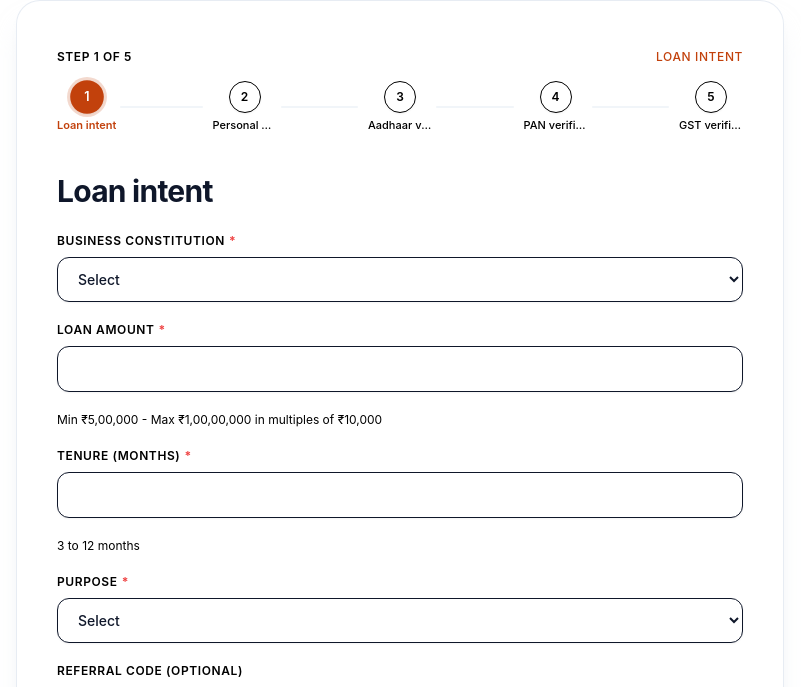
WizardShell Phase 3 browser integration › creates the current application from loan intent before advancing
Select "Proprietorship" in the dropdown labelled "Business constitution": coordinates (400, 279) [57,257,743,302]
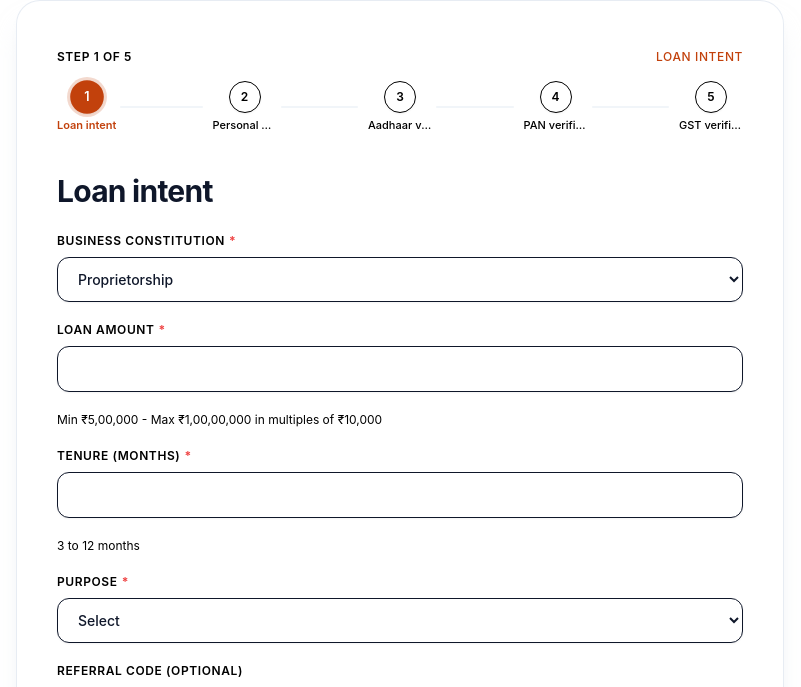
In the field labelled "Loan amount": coordinates (400, 369) [57,346,743,392], type "500000"
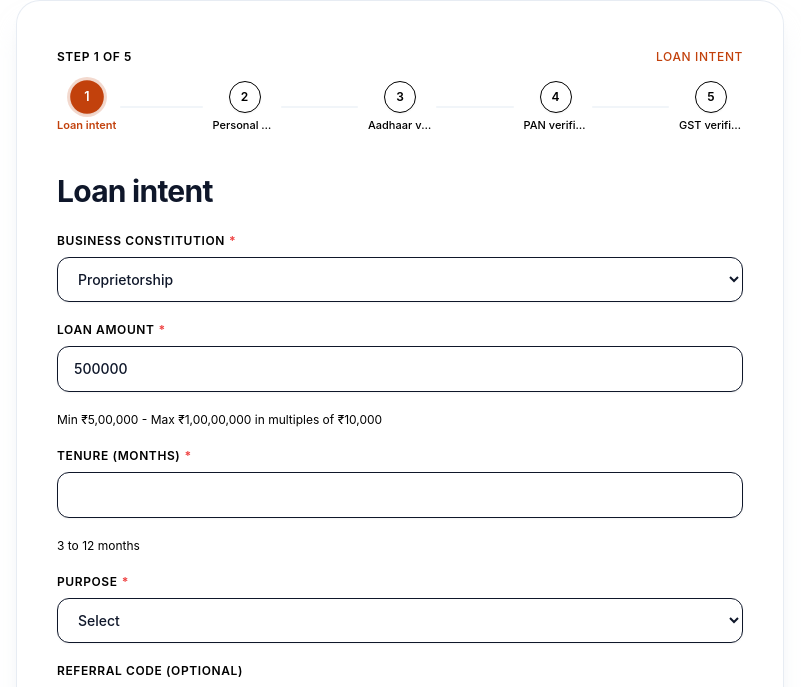
In the field labelled "Tenure (months)": coordinates (400, 495) [57,472,743,518], type "6"
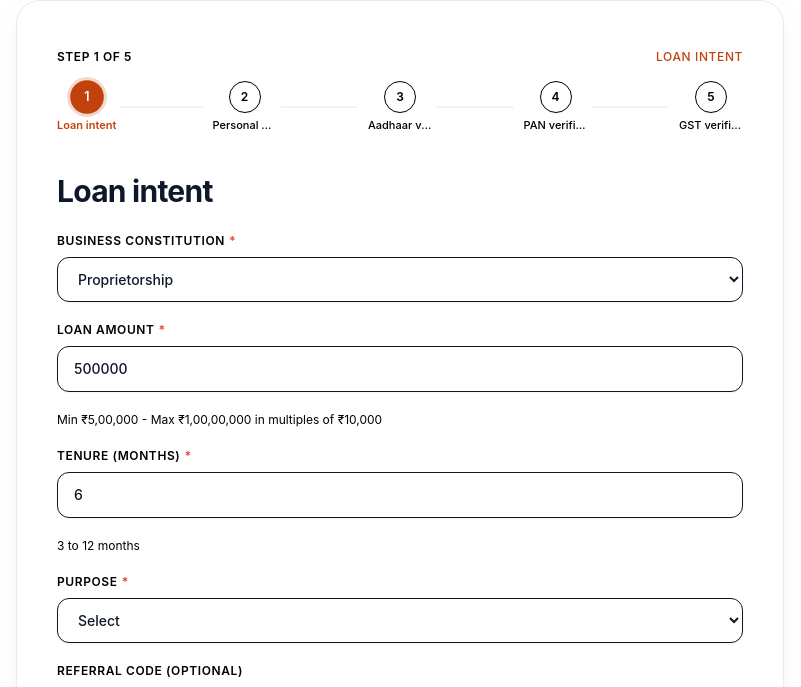
Select "Working capital" in the dropdown labelled "Purpose": coordinates (400, 620) [57,598,743,643]
(page scrolled)
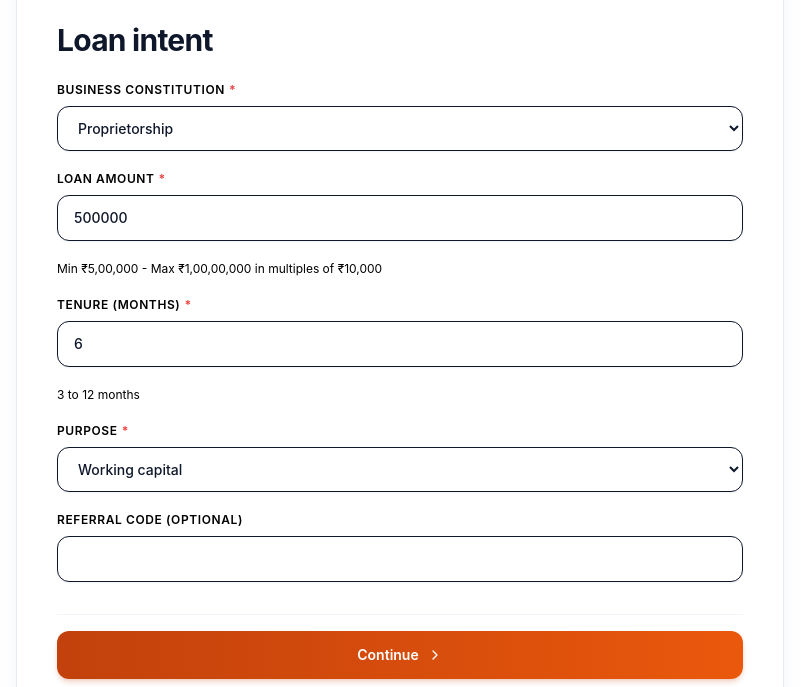
Click the button "Continue": coordinates (400, 655) [57,631,743,679]
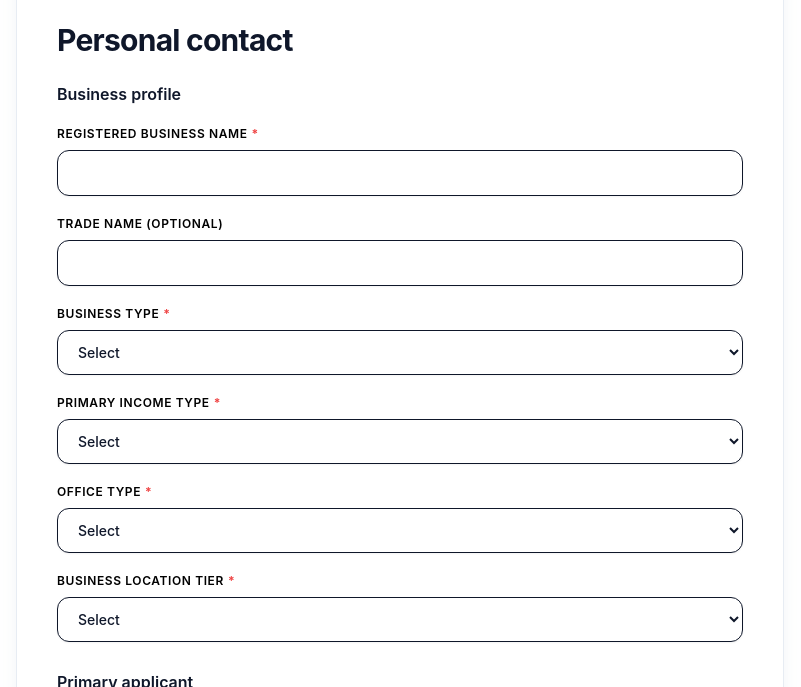
Result: the heading "Personal contact" is shown at [57,22,293,58]
